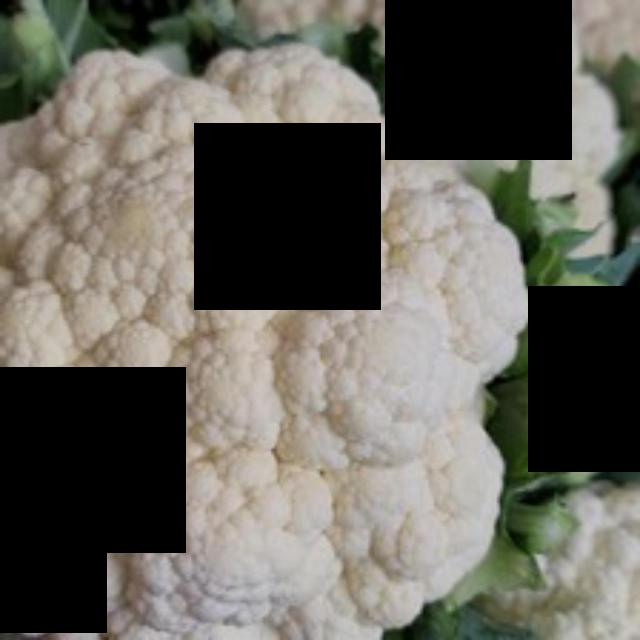cauliflower: (0, 28, 548, 637)
